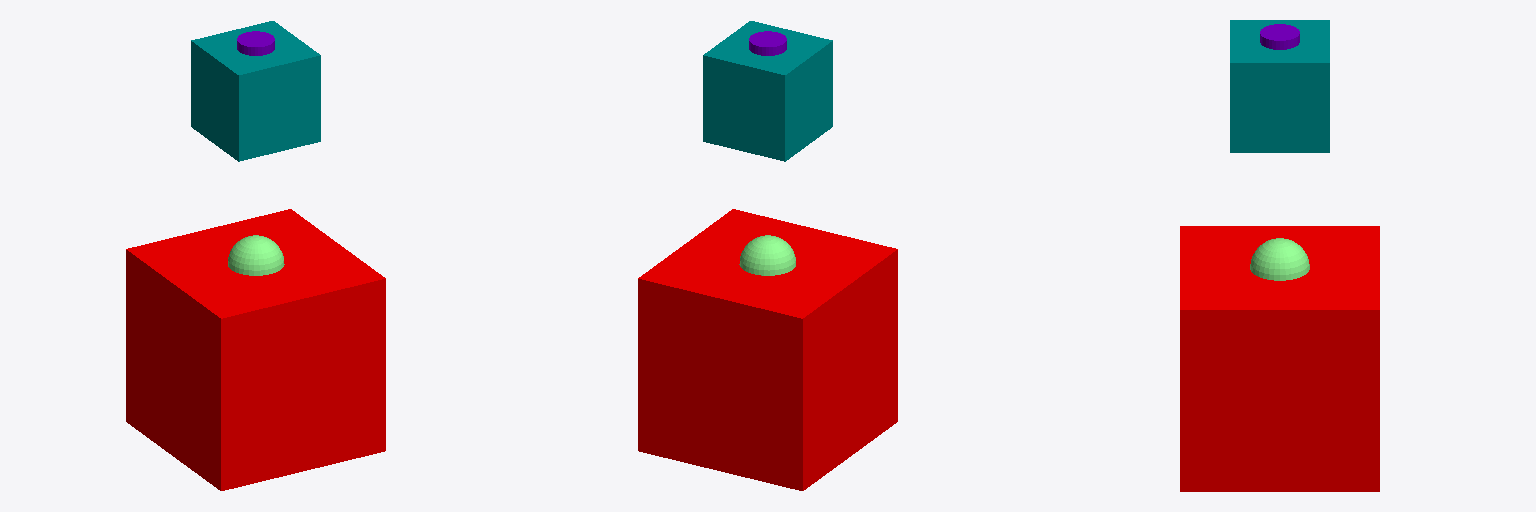
robot.urdf — collision_tree_test:
<?xml version="1.0"?>
<robot name="collision_tree_test">

  <!-- ========================= -->
  <!-- base_link : COLLISION -->
  <!-- ========================= -->
  <link name="base_link">
    <visual>
      <geometry><box size="0.2 0.2 0.2"/></geometry>
      <material name="red"><color rgba="1 0 0 1"/></material>
    </visual>
    <collision>
      <geometry><box size="0.2 0.2 0.2"/></geometry>
    </collision>
  </link>

  <joint name="base_to_mid1" type="fixed">
    <parent link="base_link"/>
    <child link="mid_link_1"/>
  </joint>

  <!-- ========================= -->
  <!-- mid_link_1 : NO COLLISION -->
  <!-- ========================= -->
  <link name="mid_link_1">
    <visual>
      <geometry><sphere radius="0.04"/></geometry>
      <material name="gray"><color rgba="0.7 0.7 0.7 1"/></material>
    </visual>
  </link>

  <!-- ========================= -->
  <!-- Branch 1 -->
  <!-- ========================= -->
  <joint name="mid1_to_b1a" type="revolute">
    <parent link="mid_link_1"/>
    <child link="branch1_linkA"/>
    <axis xyz="0 0 1"/>
    <limit lower="-1.0" upper="1.0" effort="5" velocity="2"/>
  </joint>

  <link name="branch1_linkA">
    <visual>
      <geometry><cylinder length="0.1" radius="0.03"/></geometry>
      <material name="green"><color rgba="0 1 0 1"/></material>
    </visual>
    <collision>
      <geometry><cylinder length="0.1" radius="0.03"/></geometry>
    </collision>
  </link>

  <joint name="b1a_to_b1b" type="fixed">
    <parent link="branch1_linkA"/>
    <child link="branch1_linkB"/>
    <origin rpy="3.145 0 0" xyz="0 0 0.1" />
  </joint>

  <link name="branch1_linkB">
    <visual>
      <geometry><sphere radius="0.03"/></geometry>
      <material name="lightgreen"><color rgba="0.6 1 0.6 1"/></material>
    </visual>
  </link>

  <!-- ========================= -->
  <!-- mid_link_2 : COLLISION -->
  <!-- ========================= -->
  <joint name="mid1_to_mid2" type="revolute">
    <parent link="mid_link_1"/>
    <child link="mid_link_2"/>
    <axis xyz="1 0 0"/>
    <limit lower="-0.5" upper="0.5" effort="5" velocity="2"/>
  </joint>

  <link name="mid_link_2">
    <visual>
      <geometry><sphere radius="0.05"/></geometry>
      <material name="blue"><color rgba="0 0 1 1"/></material>
    </visual>
    <collision>
      <geometry><sphere radius="0.05"/></geometry>
    </collision>
  </link>

  <!-- ========================= -->
  <!-- mid_link_3 : NO COLLISION -->
  <!-- ========================= -->
  <joint name="mid2_to_mid3" type="fixed">
    <parent link="mid_link_2"/>
    <child link="mid_link_3"/>
    <origin rpy="0 0 0" xyz="0 0 0.3"/>
  </joint>

  <link name="mid_link_3">
    <visual>
      <geometry><sphere radius="0.035"/></geometry>
      <material name="yellow"><color rgba="1 1 0 1"/></material>
    </visual>
  </link>

  <!-- ========================= -->
  <!-- Branch 2 -->
  <!-- ========================= -->
  <joint name="mid3_to_b2a" type="prismatic">
    <parent link="mid_link_3"/>
    <child link="branch2_linkA"/>
    <axis xyz="0 0 1"/>
    <limit lower="0" upper="0.1" effort="5" velocity="1"/>
  </joint>

  <link name="branch2_linkA">
    <visual>
      <geometry><sphere radius="0.03"/></geometry>
      <material name="cyan"><color rgba="0 1 1 1"/></material>
    </visual>
  </link>

  <joint name="b2a_to_b2b" type="fixed">
    <parent link="branch2_linkA"/>
    <child link="branch2_linkB"/>
  </joint>

  <link name="branch2_linkB">
    <visual>
      <geometry><box size="0.1 0.1 0.1"/></geometry>
      <material name="darkcyan"><color rgba="0 0.6 0.6 1"/></material>
    </visual>
    <collision>
      <geometry><box size="0.1 0.1 0.1"/></geometry>
    </collision>
  </link>

  <!-- ========================= -->
  <!-- Branch 3 -->
  <!-- ========================= -->
  <joint name="mid3_to_b3a" type="revolute">
    <parent link="mid_link_3"/>
    <child link="branch3_linkA"/>
    <axis xyz="0 1 0"/>
    <limit lower="-1.2" upper="1.2" effort="5" velocity="2"/>
  </joint>

  <link name="branch3_linkA">
    <visual>
      <geometry><cylinder length="0.12" radius="0.02"/></geometry>
      <material name="purple"><color rgba="0.5 0 0.8 1"/></material>
    </visual>
    <collision>
      <geometry><cylinder length="0.12" radius="0.02"/></geometry>
    </collision>
  </link>

  <joint name="b3a_to_b3b" type="fixed">
    <parent link="branch3_linkA"/>
    <child link="branch3_linkB"/>
  </joint>

  <link name="branch3_linkB">
    <visual>
      <geometry><sphere radius="0.04"/></geometry>
      <material name="pink"><color rgba="1 0.4 0.7 1"/></material>
    </visual>
    <collision>
      <geometry><sphere radius="0.04"/></geometry>
    </collision>
  </link>

</robot>

--- Facts derived from the render (not from the file) ---
Views: 3 orthographic renders of the robot side by side, from view 1: azimuth 30°, elevation 25°; view 2: azimuth 150°, elevation 25°; view 3: azimuth 270°, elevation 25°.
Model collision_tree_test with 10 links and 9 joints (3 revolute, 1 prismatic, 5 fixed), rooted at base_link, posed all joints at 0.
Visible links, largest first — view 1: base_link, branch2_linkB, branch1_linkB, branch3_linkA; view 2: base_link, branch2_linkB, branch1_linkB, branch3_linkA; view 3: base_link, branch2_linkB, branch1_linkB, branch3_linkA.
Boxes of the visible links, x1=… form: base_link: x1=126, y1=209, x2=385, y2=490; branch2_linkB: x1=191, y1=21, x2=320, y2=161; branch1_linkB: x1=228, y1=235, x2=284, y2=275; branch3_linkA: x1=237, y1=31, x2=274, y2=55; base_link: x1=638, y1=209, x2=897, y2=490; branch2_linkB: x1=703, y1=21, x2=832, y2=161; branch1_linkB: x1=739, y1=235, x2=795, y2=275; branch3_linkA: x1=749, y1=31, x2=786, y2=55; base_link: x1=1180, y1=226, x2=1379, y2=491; branch2_linkB: x1=1230, y1=20, x2=1329, y2=152; branch1_linkB: x1=1250, y1=238, x2=1309, y2=280; branch3_linkA: x1=1260, y1=24, x2=1299, y2=49.
Bounding box of the posed robot: 0.2 × 0.2 × 0.46 m (x, y, z).
Geometry: primitives only (box / cylinder / sphere), no mesh files.
